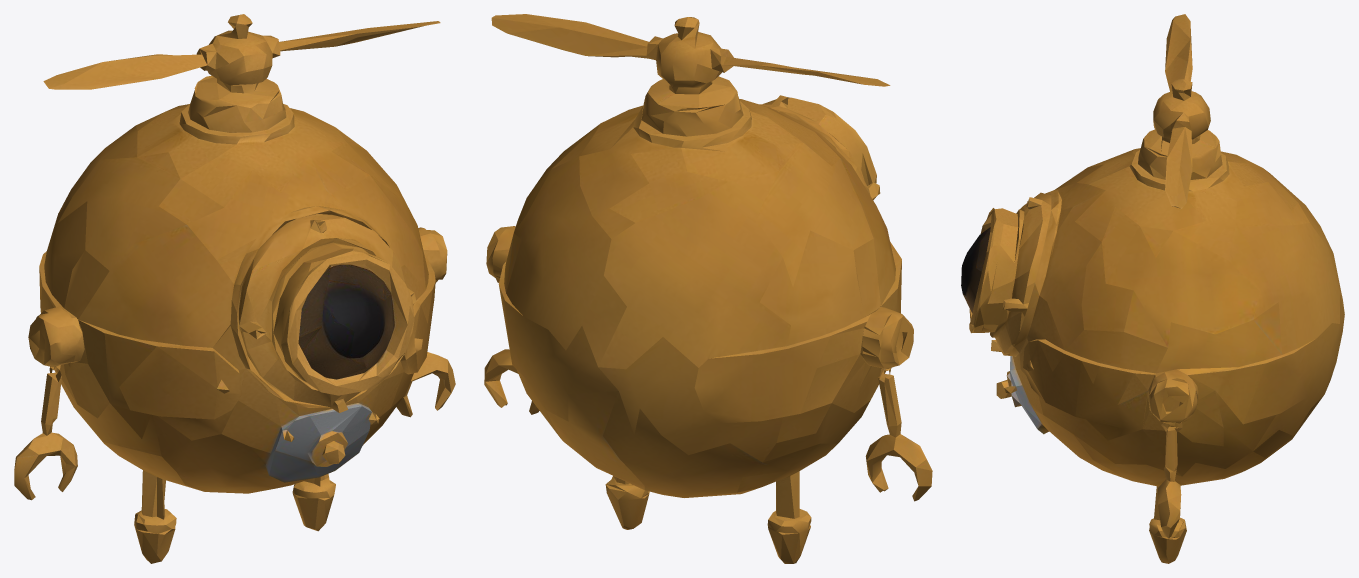
The model's file is automato-voador.glb.
3 renders of one model, left to right at view 1: azimuth 30°, elevation 25°; view 2: azimuth 150°, elevation 25°; view 3: azimuth 270°, elevation 25°, orthographic. The views are drawn at different scales.
Size of the model in its own units: 1.67 by 1.9 by 1.45.
Materials: 1 (1 with a texture image).
